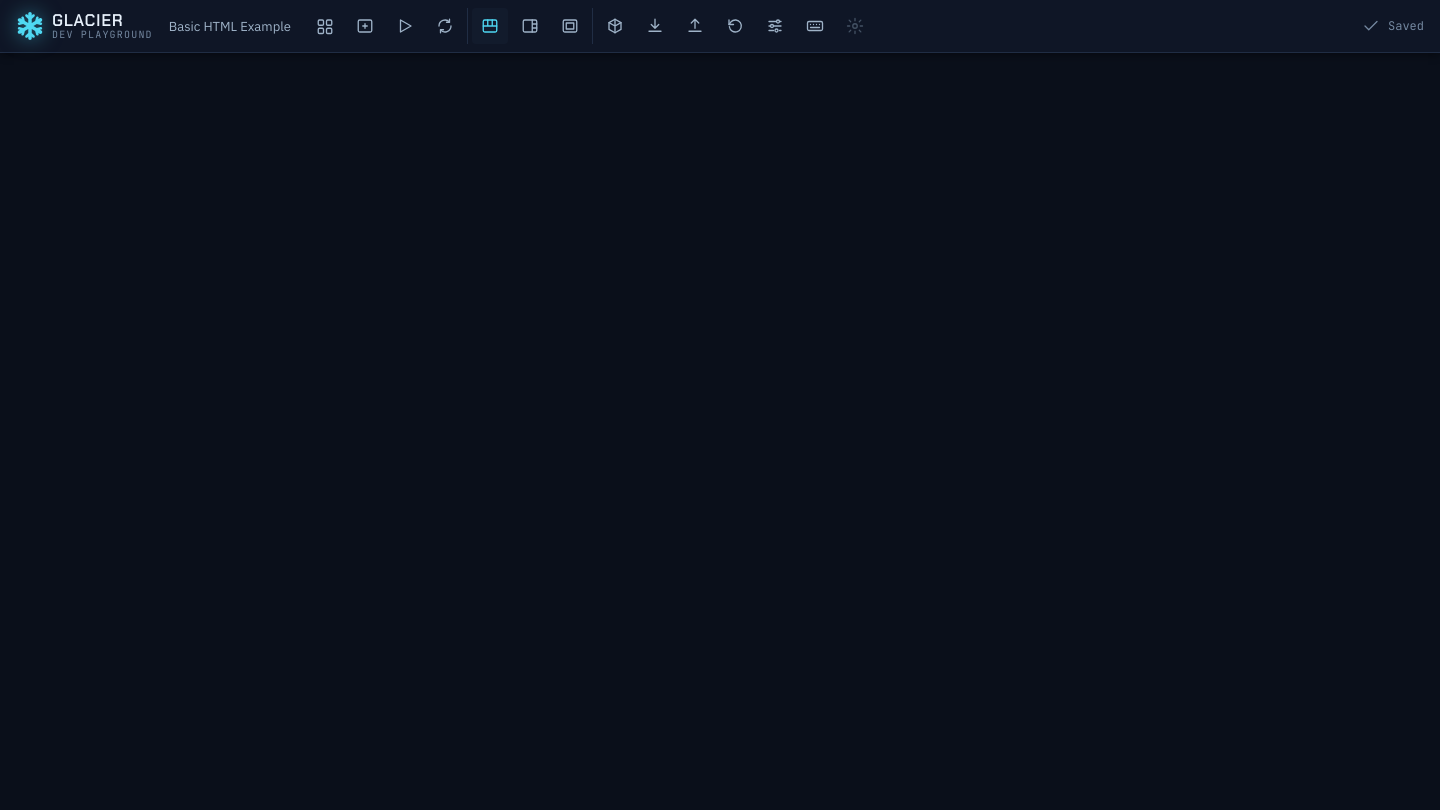
Test case: Toolbar › opens the new project dialog from the toolbar button
Click the button named "New project". click: x=365, y=26
box: top-left (347, 8), bottom-right (383, 44)
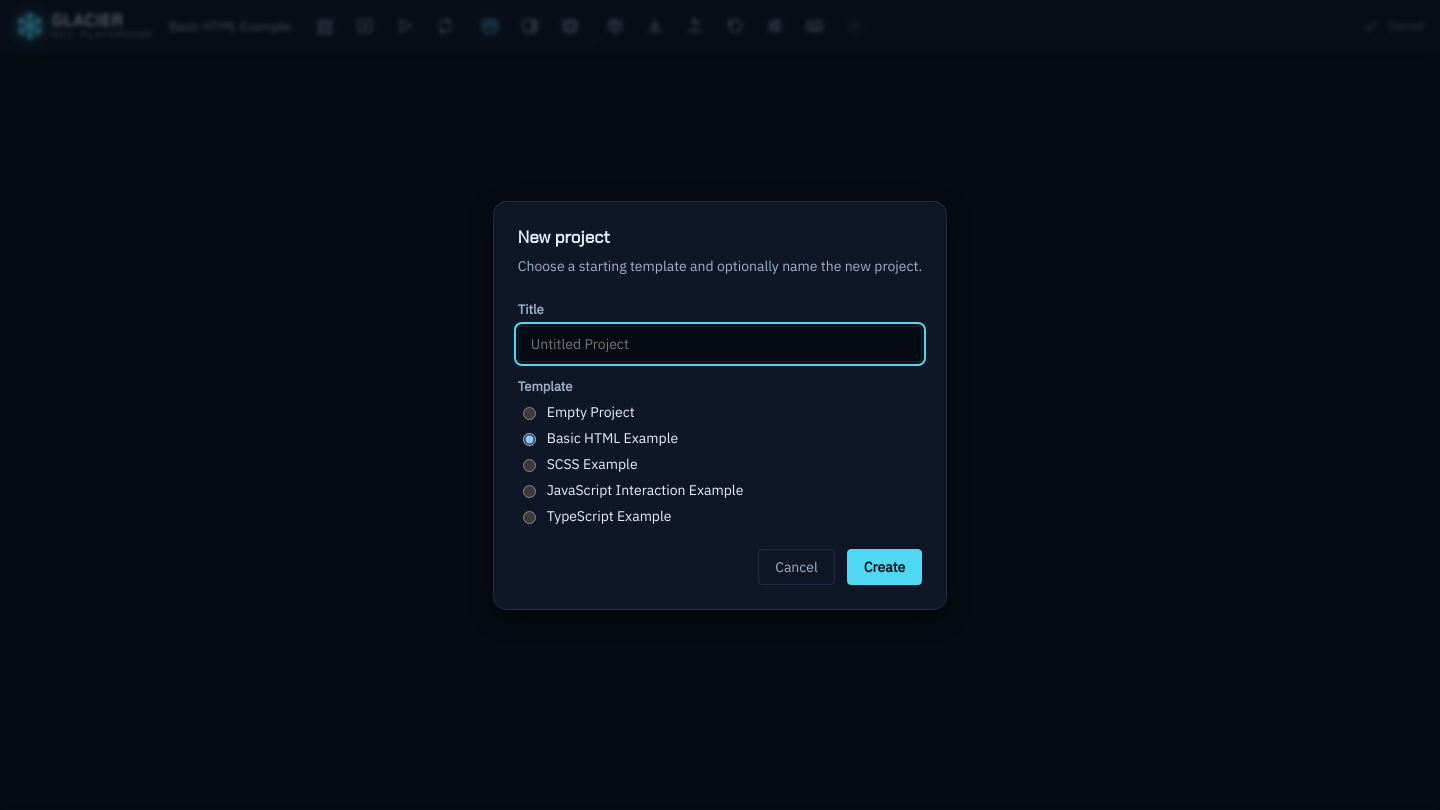
Result: the dialog "New project" is shown at top-left (493, 200), bottom-right (947, 610)
